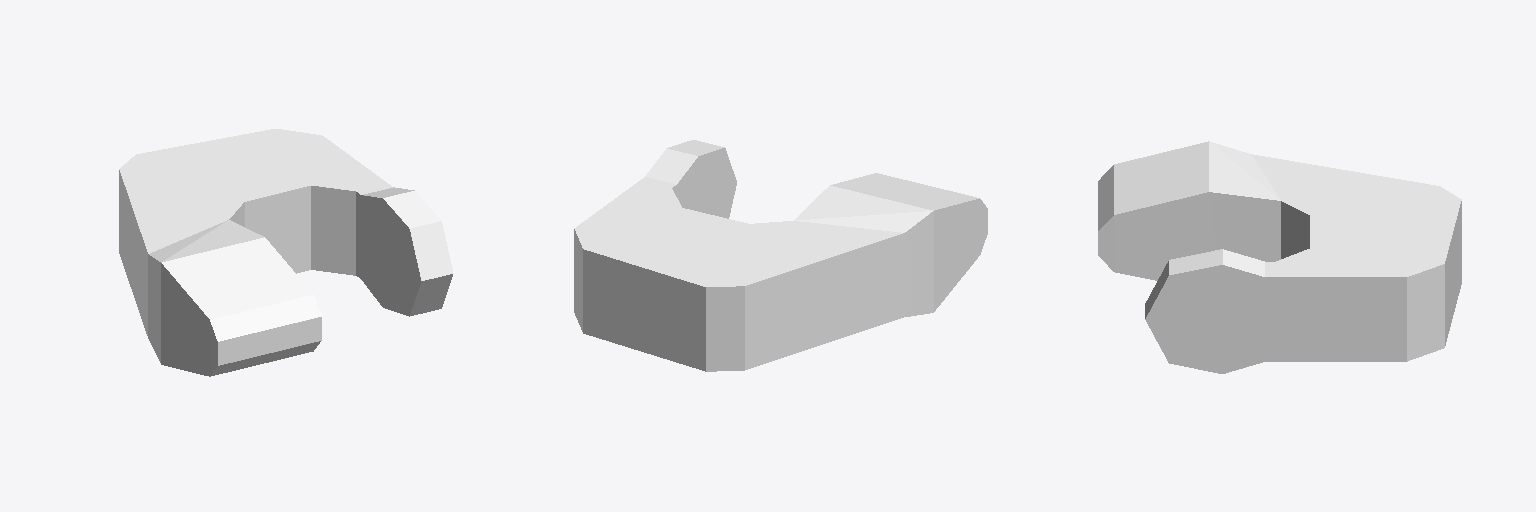
The model's file is mtorso.obj.
3 views of the same model, side by side, from view 1: azimuth 30°, elevation 25°; view 2: azimuth 150°, elevation 25°; view 3: azimuth 270°, elevation 25° (orthographic).
Parts seen in each view (by area): view 1: mtorso_mtorsoMesh; view 2: mtorso_mtorsoMesh; view 3: mtorso_mtorsoMesh.
Part boxes in pixels (left/top/right/bottom): mtorso_mtorsoMesh: left=119, top=129, right=453, bottom=376; mtorso_mtorsoMesh: left=574, top=140, right=987, bottom=371; mtorso_mtorsoMesh: left=1098, top=141, right=1461, bottom=373.
Bounding box in the file's own units: 0.0837 × 0.0337 × 0.1012.